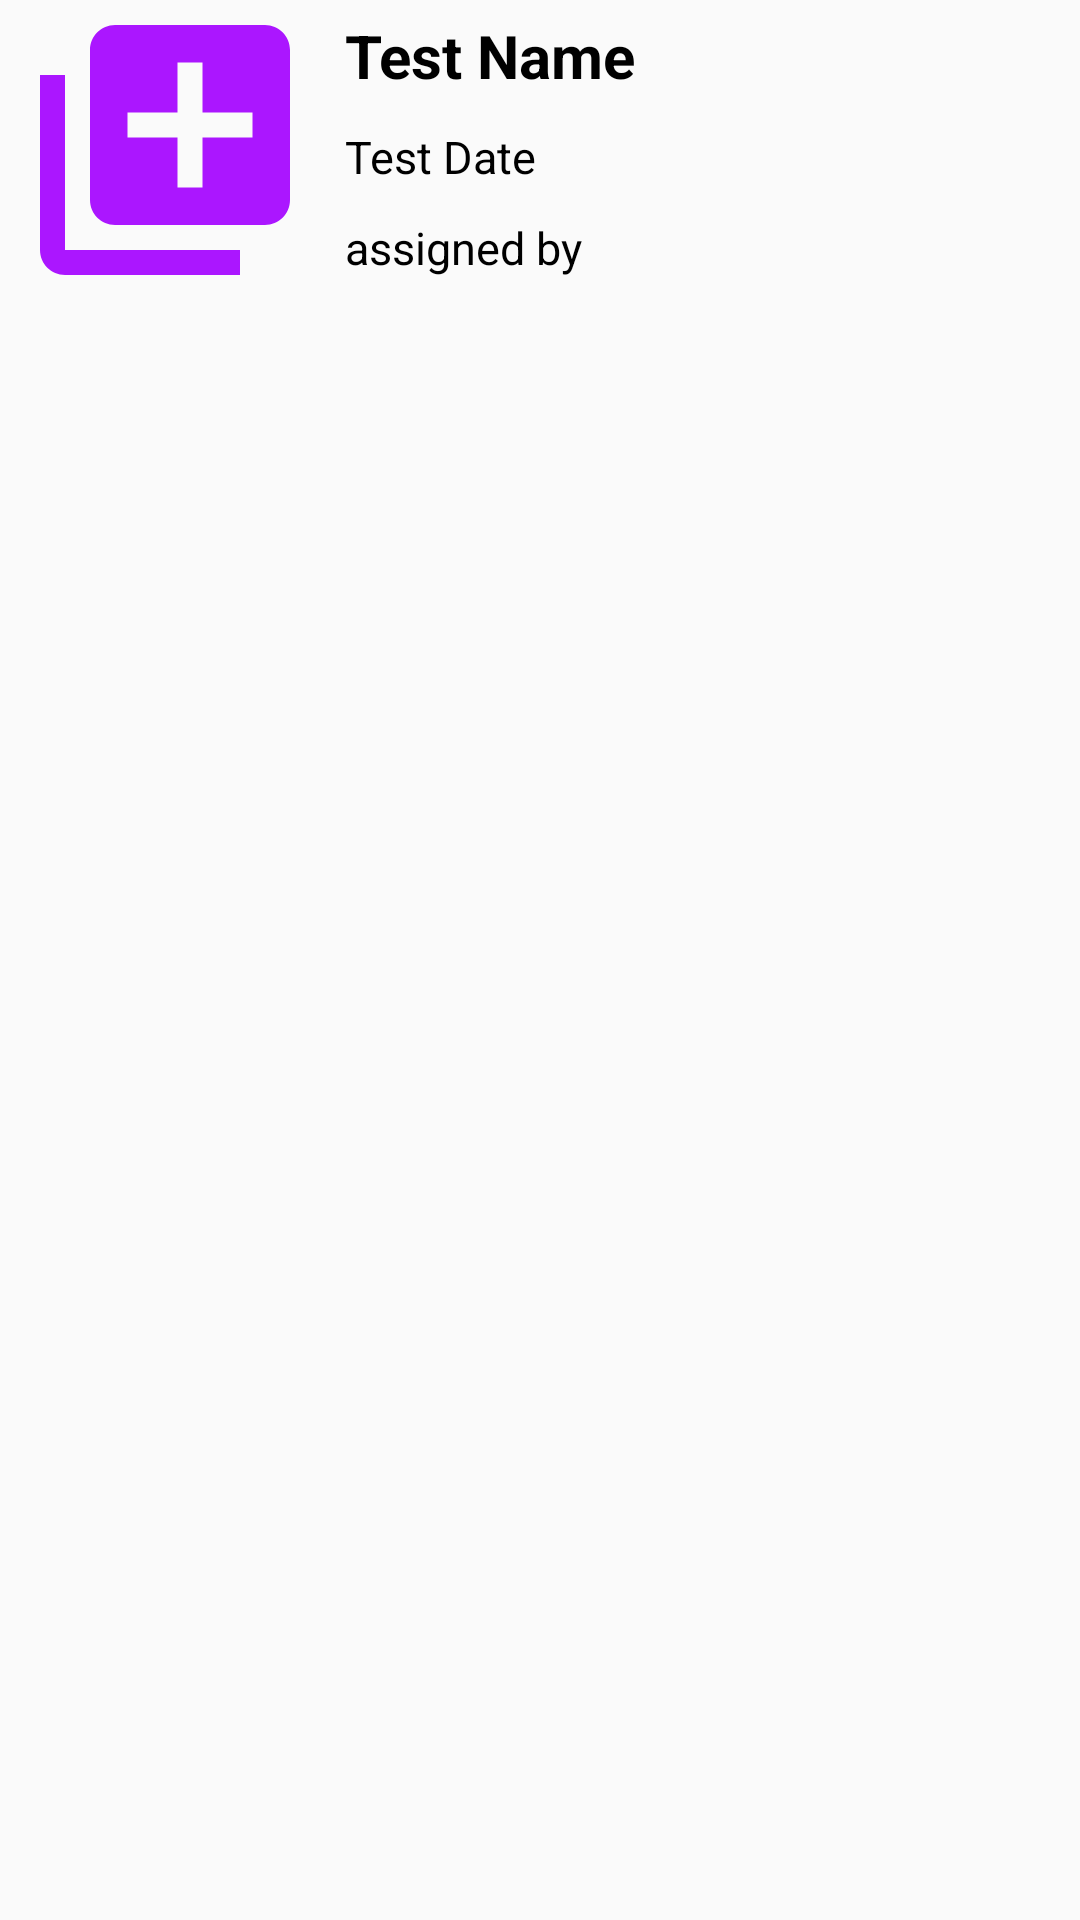

Where to tap for icons on this 1080w x 1920h app screen, as (x=x, y=y):
library add: (x=165, y=150)
